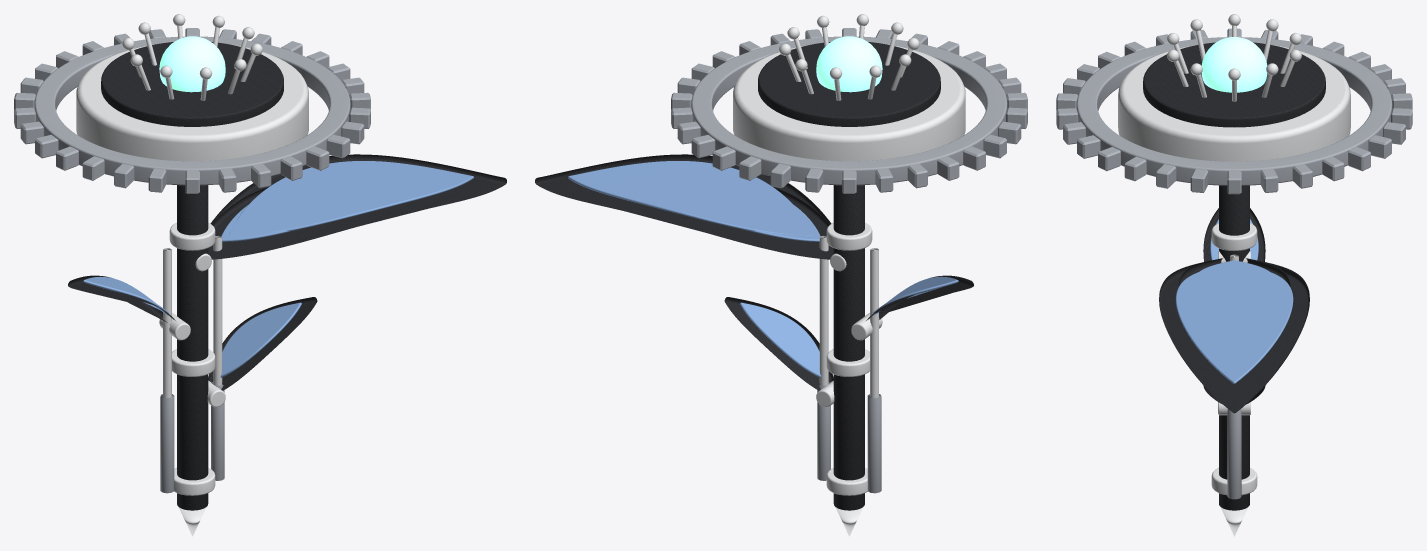
The model's file is flower.glb.
The picture shows the model from 3 angles, left to right: view 1: azimuth 30°, elevation 25°; view 2: azimuth 150°, elevation 25°; view 3: azimuth 270°, elevation 25°; orthographic projection.
Visible parts, largest first — view 1: Stem, Gear, Hub, PetalOuter, Core, Stamens, PetalInner; view 2: Stem, Gear, Hub, PetalOuter, Core, Stamens, PetalInner; view 3: Gear, Hub, PetalOuter, Stem, Core, Stamens, PetalInner.
Boxes of the visible parts, box(x1,y1,x2,y2) form: Stem: box(68, 185, 317, 536); Gear: box(14, 28, 370, 193); Hub: box(76, 42, 308, 161); PetalOuter: box(208, 154, 506, 259); Core: box(159, 36, 225, 92); Stamens: box(122, 14, 262, 100); PetalInner: box(195, 187, 346, 271); Stem: box(724, 185, 973, 536); Gear: box(671, 28, 1027, 193); Hub: box(733, 42, 965, 161); PetalOuter: box(535, 154, 833, 259); Core: box(816, 36, 882, 92); Stamens: box(779, 14, 919, 100); PetalInner: box(674, 187, 846, 271); Gear: box(1056, 28, 1412, 194); Hub: box(1118, 42, 1350, 161); PetalOuter: box(1159, 261, 1309, 413); Stem: box(1203, 185, 1265, 536); Core: box(1201, 37, 1267, 92); Stamens: box(1167, 14, 1301, 101); PetalInner: box(1178, 251, 1290, 286).
Size of the model in its own units: 2.6 by 2.64 by 1.72.
5 materials, 1 textured.
